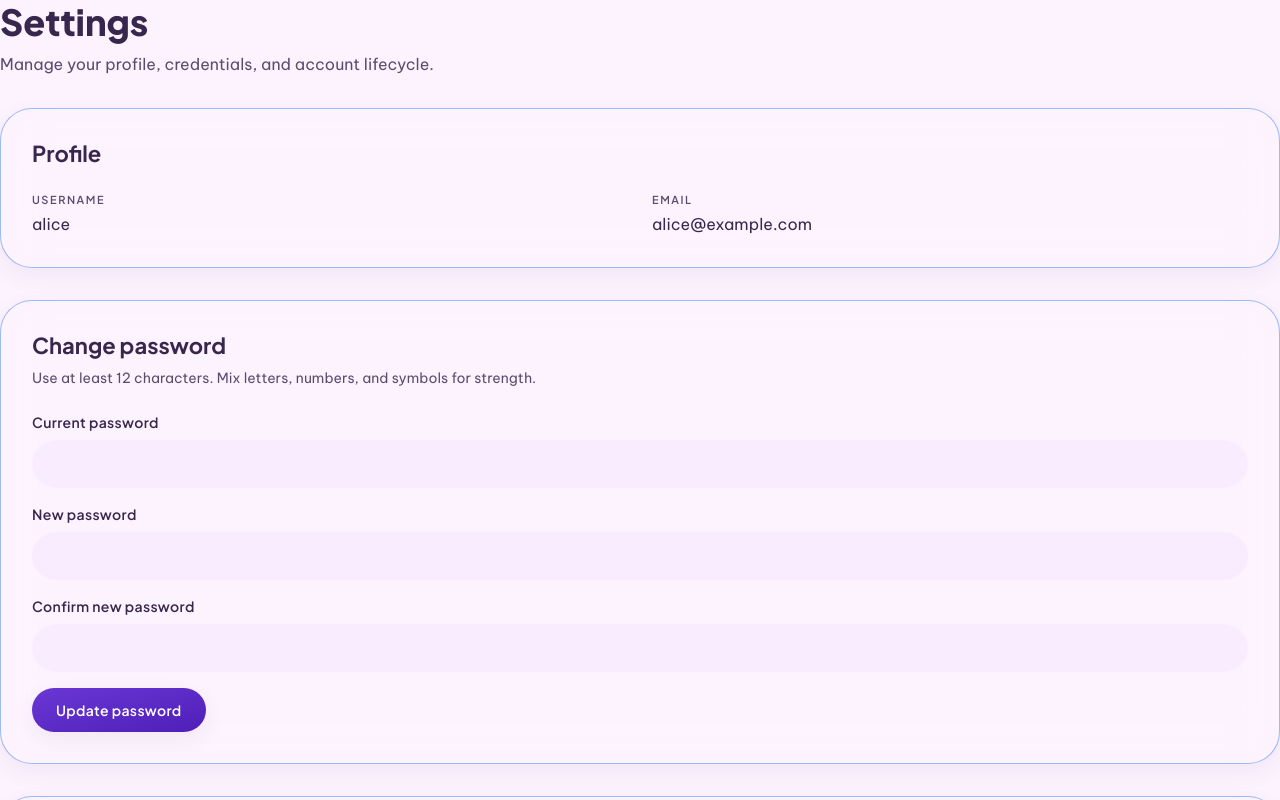
Test: <SettingsRoute /> (/settings) › Change password form › rejects submission when fields are empty
Click the button with test id "settings-password-submit": x=119, y=710 [32,688,206,732]
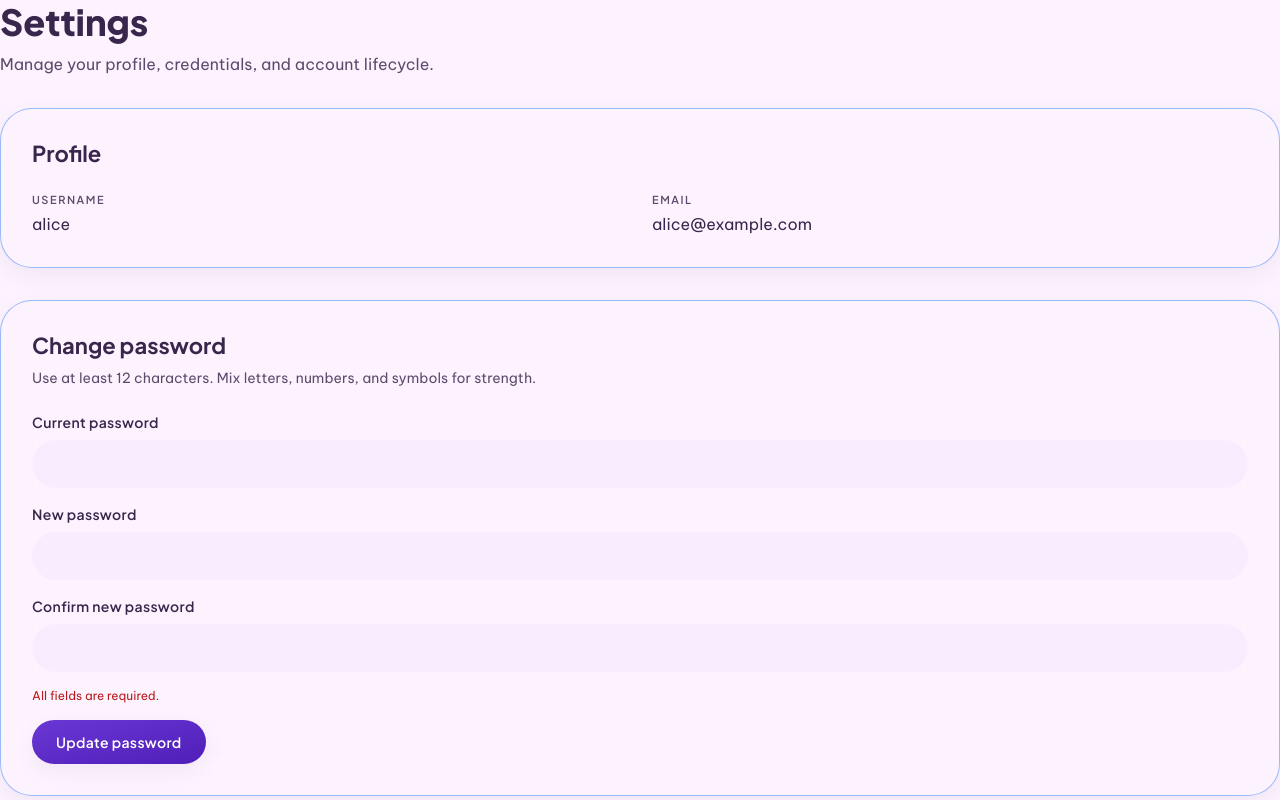
expect the message with test id "settings-password-validation" shows "All fields are required": met, box [32,688,159,703]
